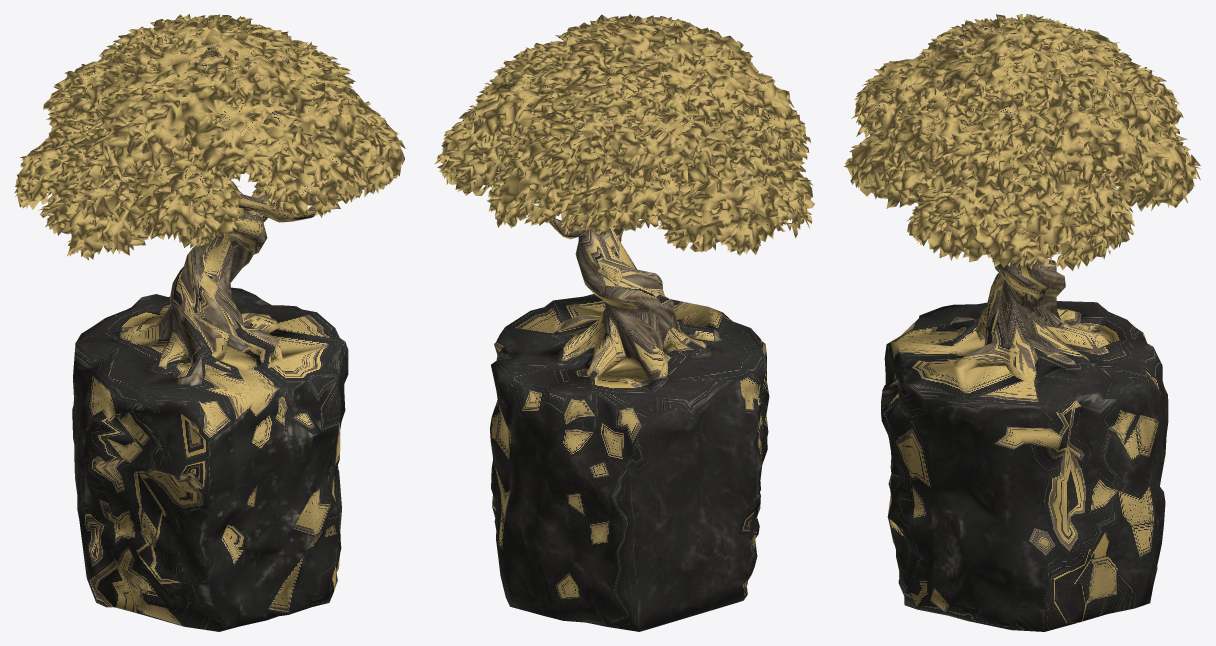
File: bonsai.glb
3 views of the same model, side by side, from view 1: azimuth 30°, elevation 25°; view 2: azimuth 150°, elevation 25°; view 3: azimuth 270°, elevation 25° (orthographic).
Size of the model in its own units: 1.24 by 1.9 by 1.12.
1 material, 1 textured.
